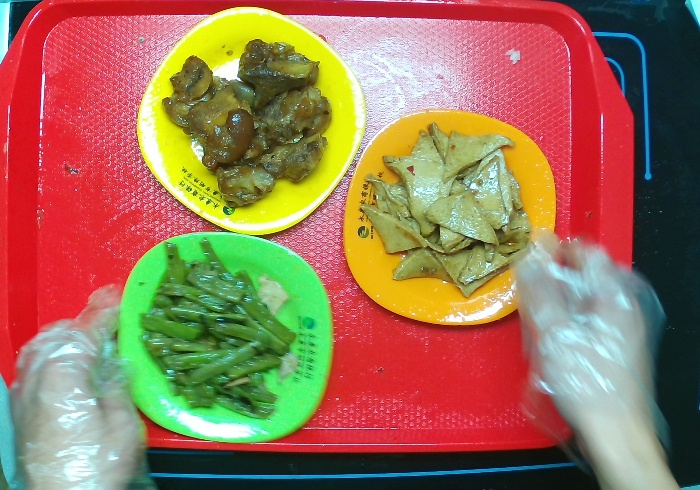YKMZ-Huang_Se_Fang_Die: (134, 4, 368, 236)
YKMZ-Ju_Se_Fang_Die: (342, 106, 557, 326)
YKMZ-Lv_Se_Fang_Die: (116, 229, 334, 444)
